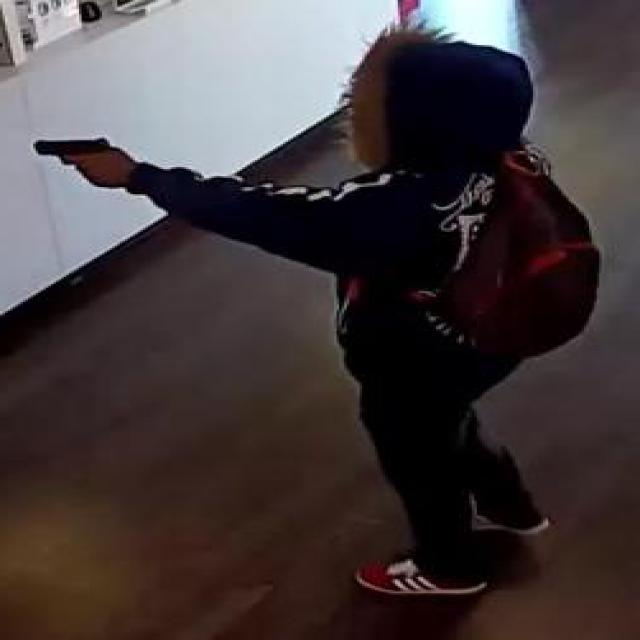Gun: (33, 133, 120, 191)
